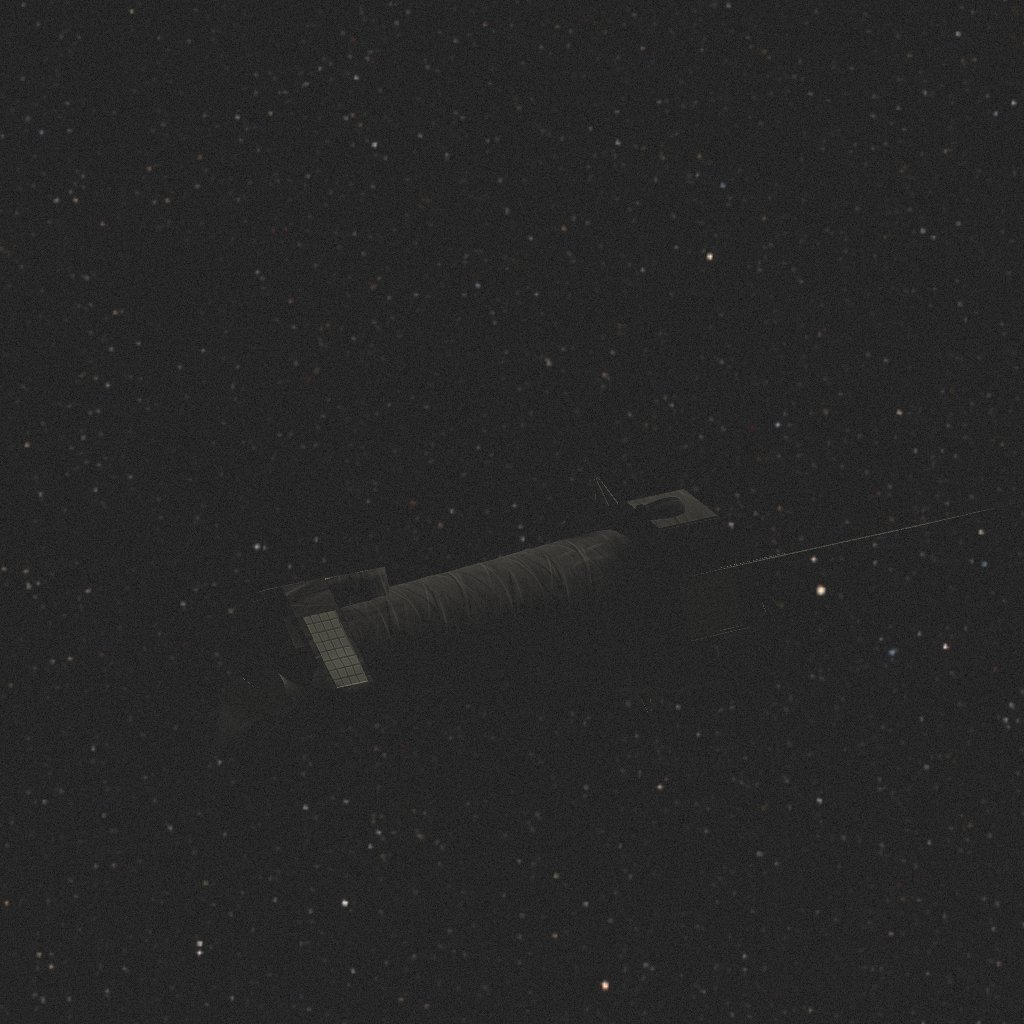xmm_newton: (210, 460, 1024, 757)
